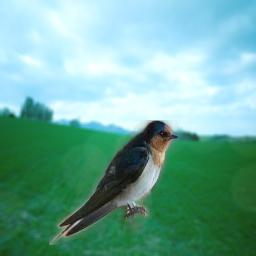Swallow: (49, 120, 179, 245)
